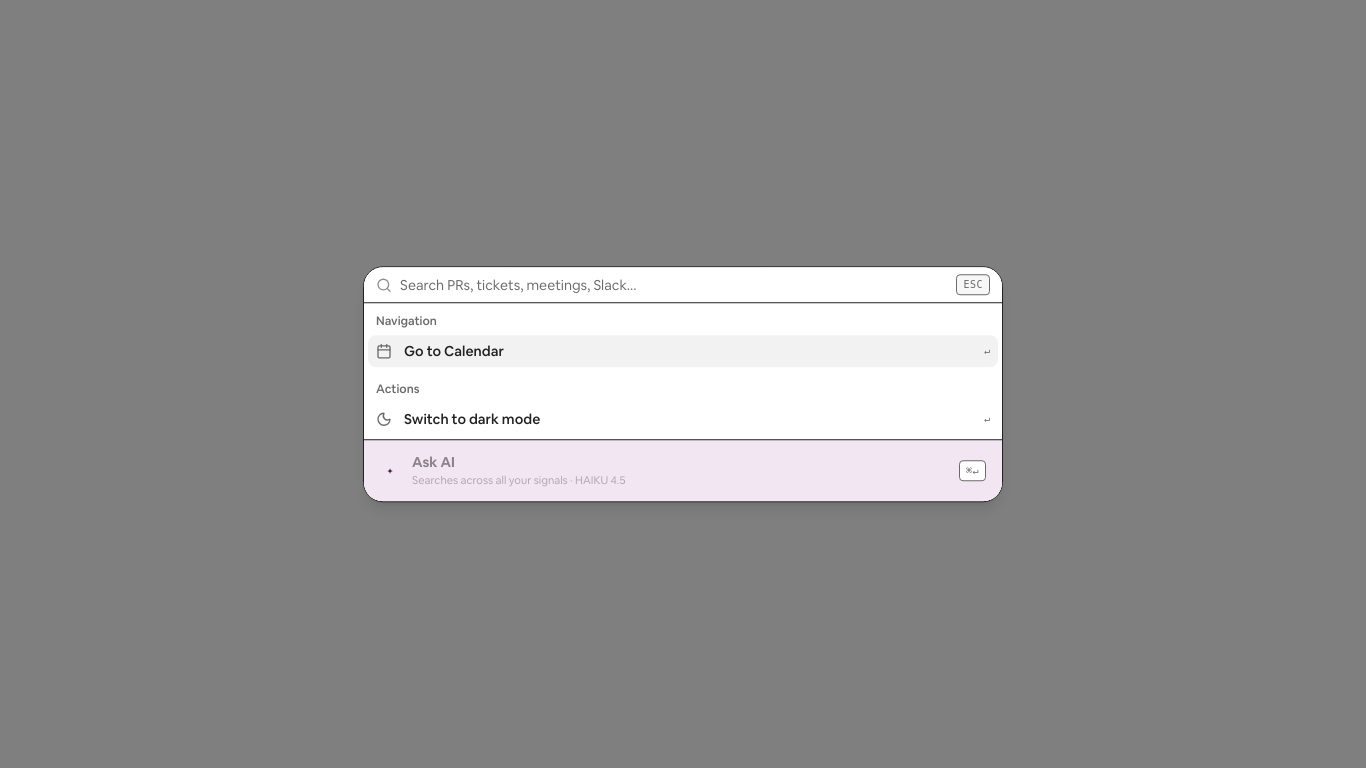
CommandPalette › filters commands by typed query (label + keywords)
Type "appearance" into the dropdown named "search signals". click: (674,285)
box: [400,265,948,305]
Wait 150 ms
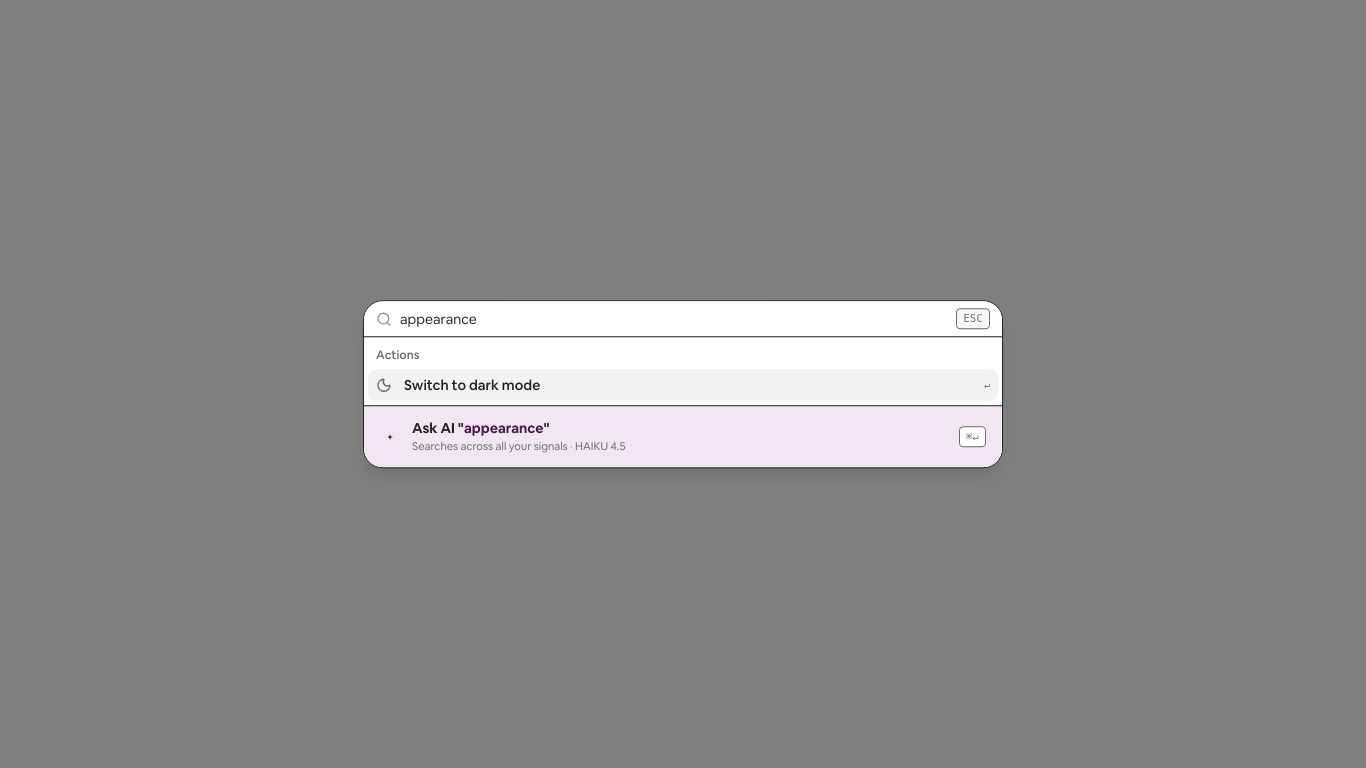
Check: the text "Switch to dark mode" is shown, box [404,376,540,394]
Check: the option "Go to Calendar" is gone
